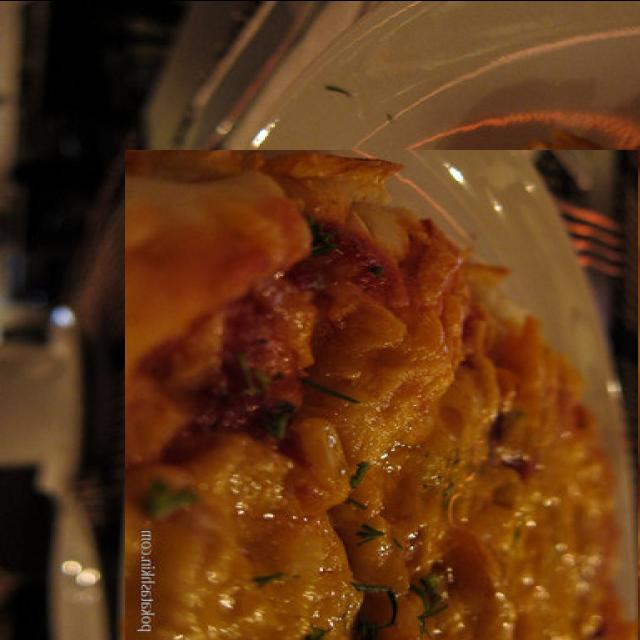pizza: (125, 149, 638, 640)
